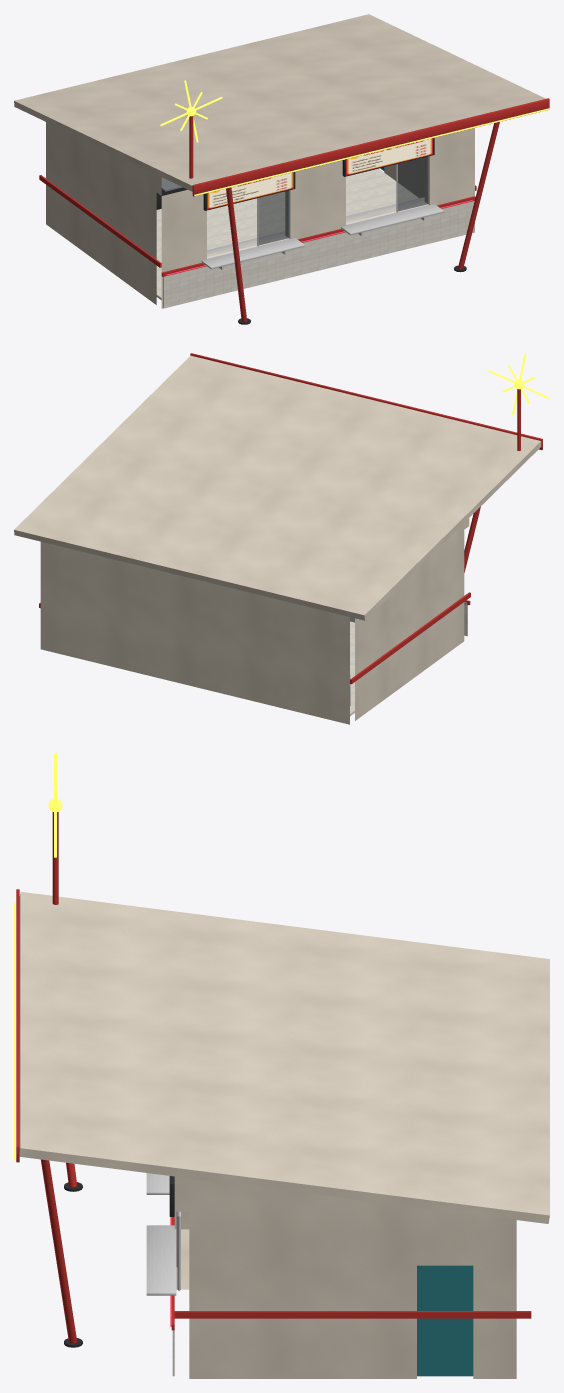
File: burger_stand.glb
3 renders of one model, top to bottom at view 1: azimuth 30°, elevation 25°; view 2: azimuth 150°, elevation 25°; view 3: azimuth 270°, elevation 25°, orthographic. The views are drawn at different scales.
Parts seen in each view (by area): view 1: body; view 2: body; view 3: body.
Boxes of the visible parts, <box> form: body: <box>14,14,549,324</box>; body: <box>14,353,549,724</box>; body: <box>14,753,549,1378</box>.
Bounding box in the file's own units: 10.81 × 7.2 × 9.01.
13 materials, 4 textured.
